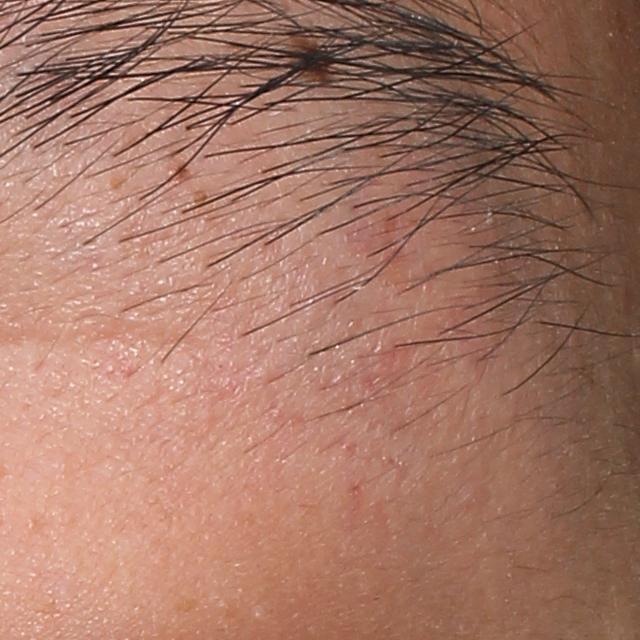nevus: (290, 29, 330, 81)
